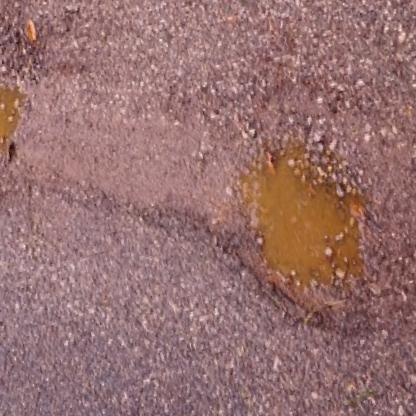pothole: (209, 106, 402, 360), (0, 21, 56, 224)
